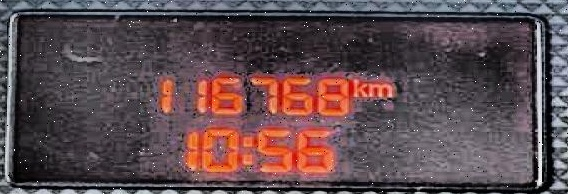0: (202, 125, 237, 173)
1: (156, 73, 175, 115), (183, 127, 198, 173), (192, 74, 208, 114)
5: (257, 125, 292, 174)
6: (293, 127, 335, 174), (280, 73, 311, 117), (210, 73, 243, 114)
7: (247, 73, 278, 117)
8: (315, 74, 348, 115)
X: (238, 133, 253, 167), (367, 80, 393, 98), (352, 75, 367, 98)
